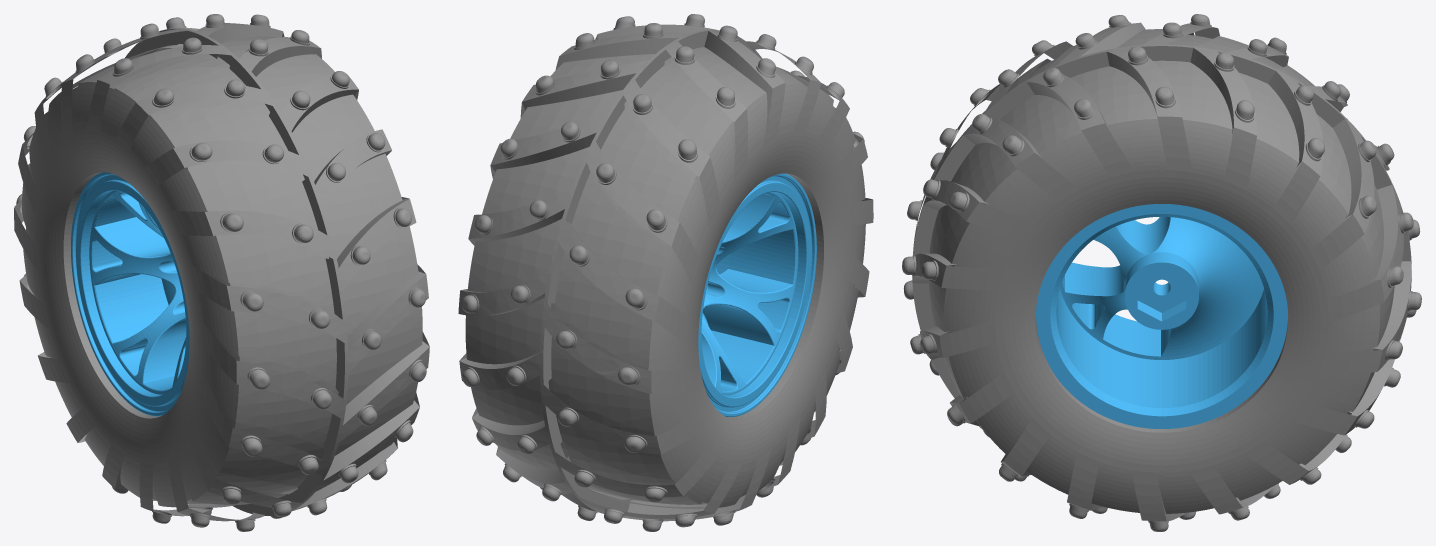
Rendered from Spiked Rubber Wheel 120mm.glb.
3 renders of one model, left to right at view 1: azimuth 30°, elevation 25°; view 2: azimuth 150°, elevation 25°; view 3: azimuth 270°, elevation 25°, orthographic.
Parts seen in each view (by area): view 1: Node1, Node2, Node7, Node5, Node6, Node3, Node4, Node8; view 2: Node1, Node2, Node4, Node6, Node5, Node3, Node7, Node8; view 3: Node3, Node5, Node6, Node2, Node1, Node4, Node8, Node7.
Part boxes in pixels (x1=…): Node1: x1=18, y1=21, x2=429, y2=531; Node2: x1=14, y1=14, x2=429, y2=519; Node7: x1=16, y1=14, x2=425, y2=531; Node5: x1=27, y1=14, x2=426, y2=527; Node6: x1=71, y1=172, x2=189, y2=416; Node3: x1=14, y1=15, x2=429, y2=527; Node4: x1=17, y1=14, x2=424, y2=527; Node8: x1=92, y1=189, x2=184, y2=404; Node1: x1=459, y1=25, x2=865, y2=530; Node2: x1=458, y1=23, x2=872, y2=527; Node4: x1=464, y1=14, x2=873, y2=523; Node6: x1=698, y1=173, x2=816, y2=416; Node5: x1=460, y1=14, x2=858, y2=531; Node3: x1=467, y1=17, x2=862, y2=524; Node7: x1=461, y1=18, x2=867, y2=522; Node8: x1=703, y1=181, x2=794, y2=391; Node3: x1=902, y1=22, x2=1421, y2=522; Node5: x1=912, y1=15, x2=1415, y2=531; Node6: x1=1036, y1=204, x2=1287, y2=428; Node2: x1=912, y1=23, x2=1413, y2=522; Node1: x1=908, y1=14, x2=1421, y2=528; Node4: x1=912, y1=14, x2=1421, y2=526; Node8: x1=1062, y1=217, x2=1287, y2=359; Node7: x1=902, y1=14, x2=1412, y2=518.
Size of the model in its own units: 58.07 by 128 by 128.
